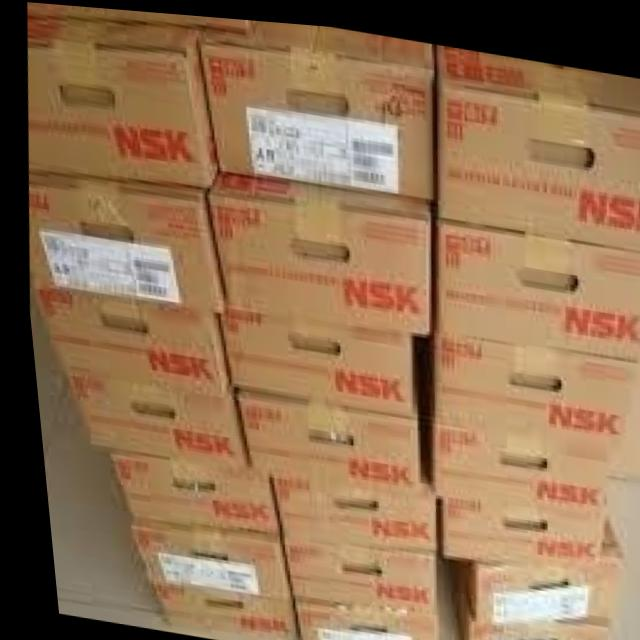box: (195, 17, 434, 192), (433, 39, 640, 241), (204, 165, 431, 327), (408, 325, 640, 472), (25, 14, 217, 184), (428, 210, 640, 357), (23, 164, 221, 309), (215, 300, 412, 414), (25, 289, 226, 395), (228, 384, 413, 486), (430, 516, 617, 612), (411, 416, 597, 511), (57, 375, 241, 465), (98, 448, 273, 538), (428, 488, 598, 567), (264, 468, 429, 548), (122, 526, 283, 597), (273, 539, 428, 612), (145, 588, 289, 640), (444, 596, 600, 640), (27, 2, 258, 28), (283, 599, 424, 640)
